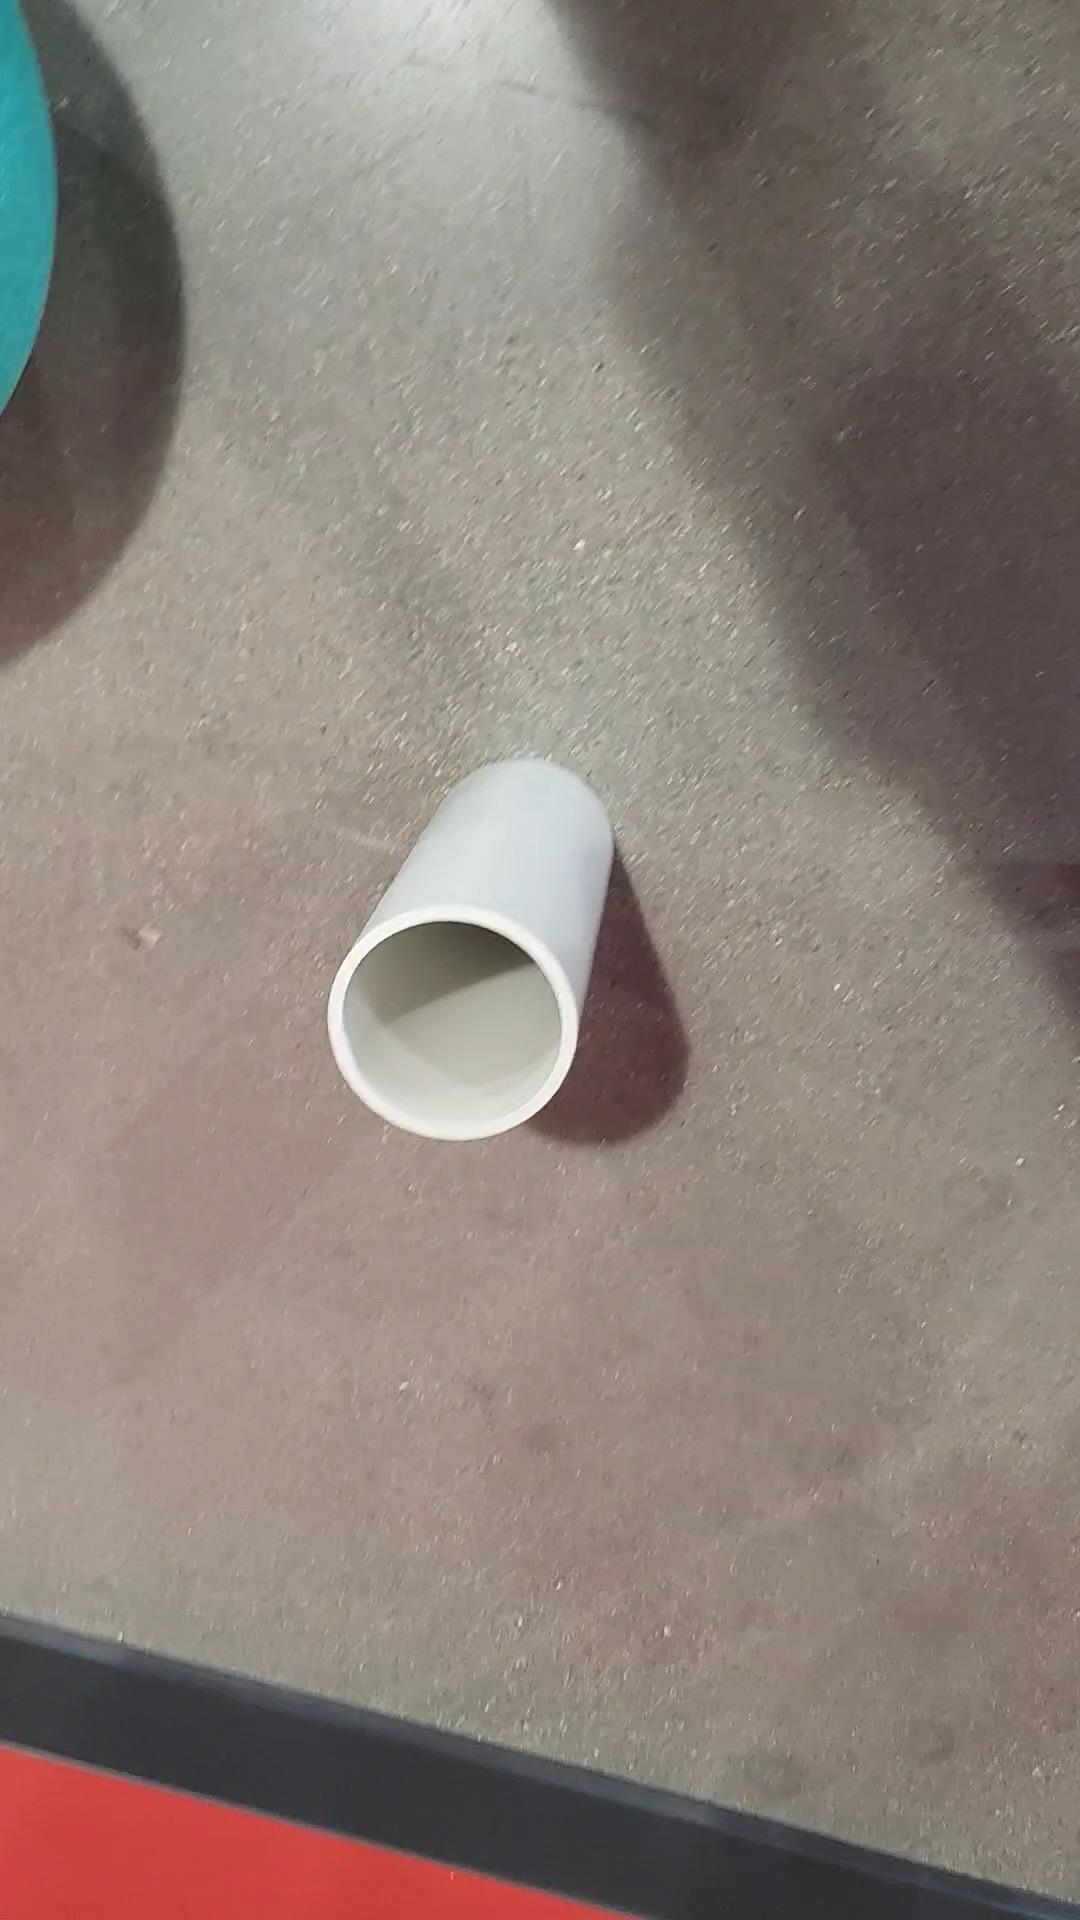coral: (330, 762, 617, 1139)
